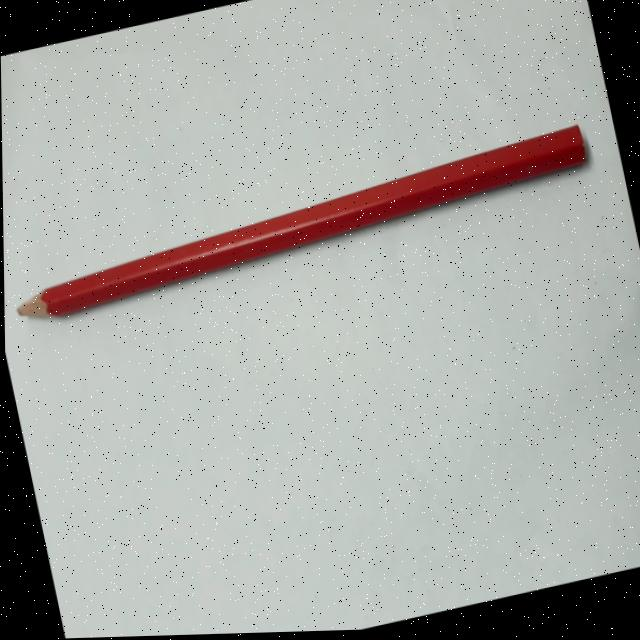pencil: (1, 110, 605, 342)
